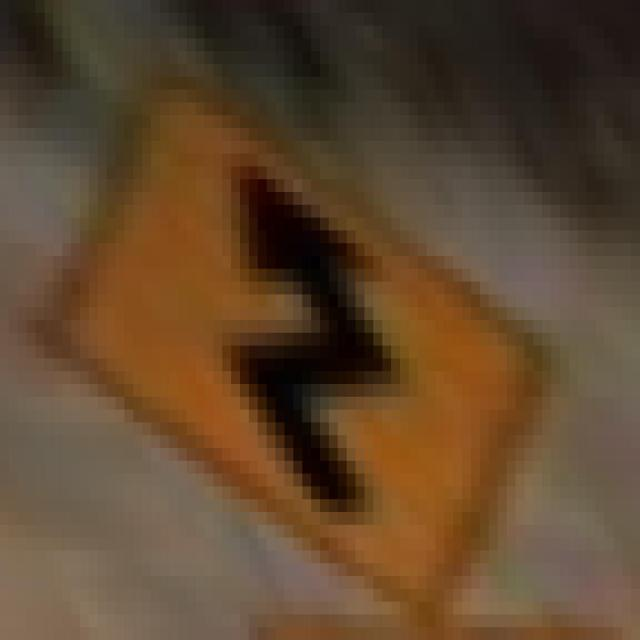Tikungan Ganda Pertama Ke Kanan: (18, 51, 560, 614)
